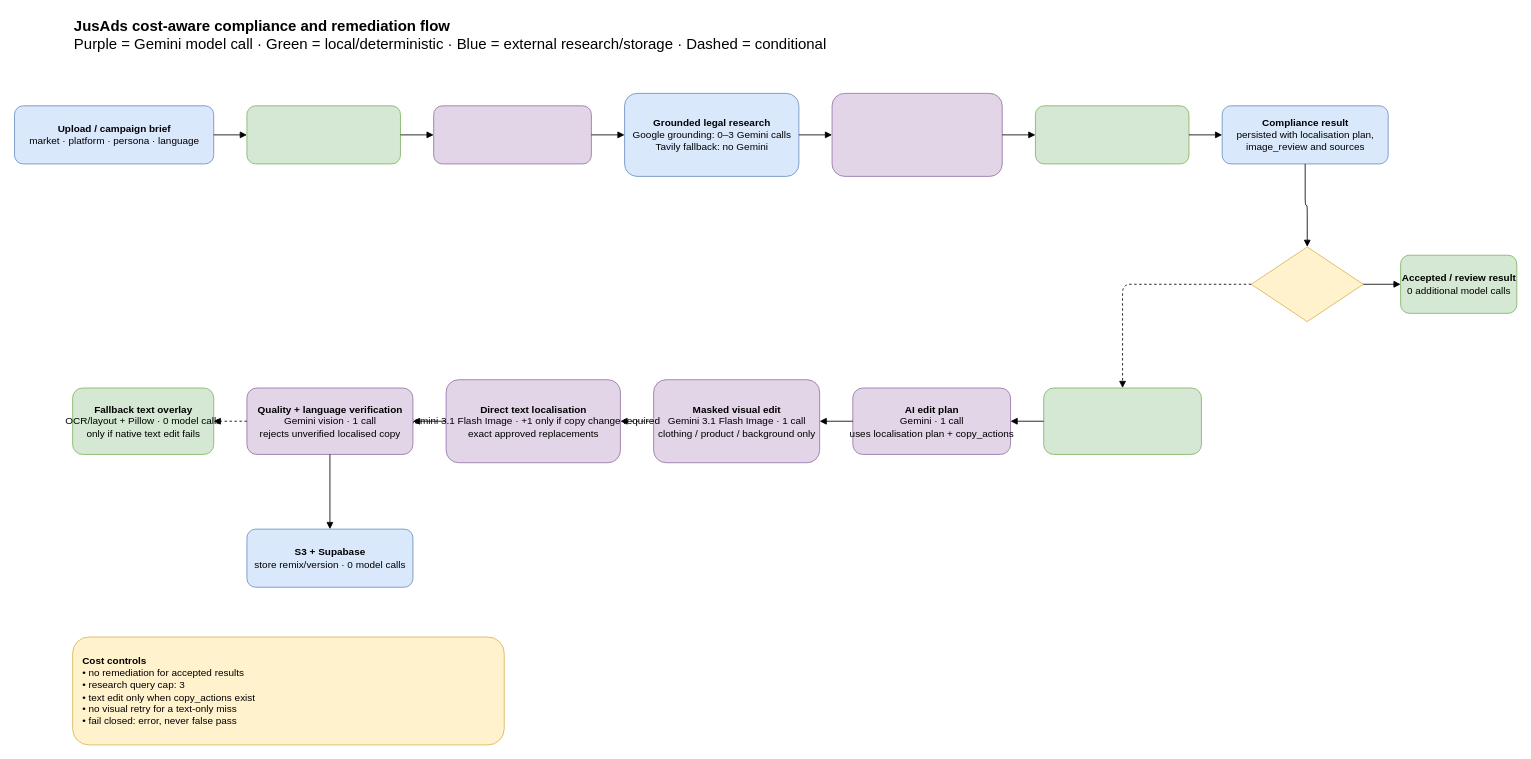
Image size: 1531x759. Some labels were removed from this diagram. Each missing label, with the centre of its shape:
Evidence & decision CLIPSeg / FFmpeg / routing 0 model calls: the point at 1112,134
Fetch rules & persona Supabase · 0 model calls: the point at 323,134
Grounded adjudication Gemini · 1 call keeps image_review & copy_actions: the point at 916,134
Initial multimodal analysis Gemini text/vision · 1 call: the point at 512,134
Needs remediation?: the point at 1306,284
Remix triage deterministic · 0 calls uses verdict, risk, evidence: the point at 1122,420
